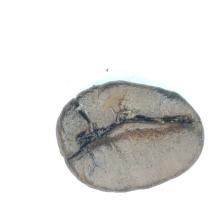NG: (71, 89, 191, 160)
